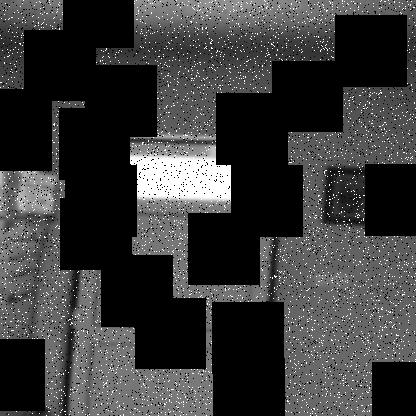Porte: (61, 131, 292, 415)
